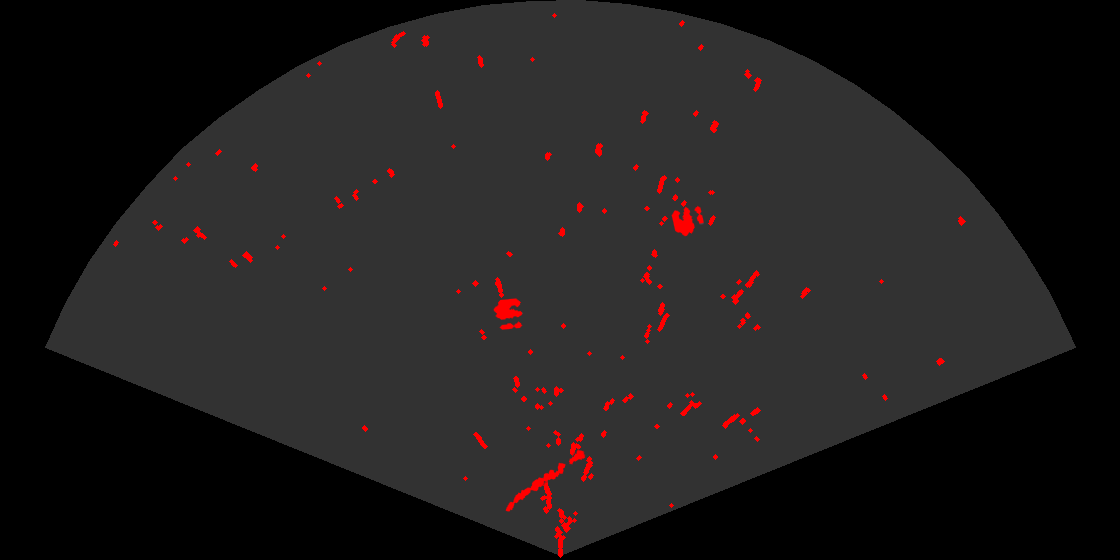ball: (670, 204, 705, 238), (492, 297, 524, 331)
chain: (504, 448, 587, 513)
